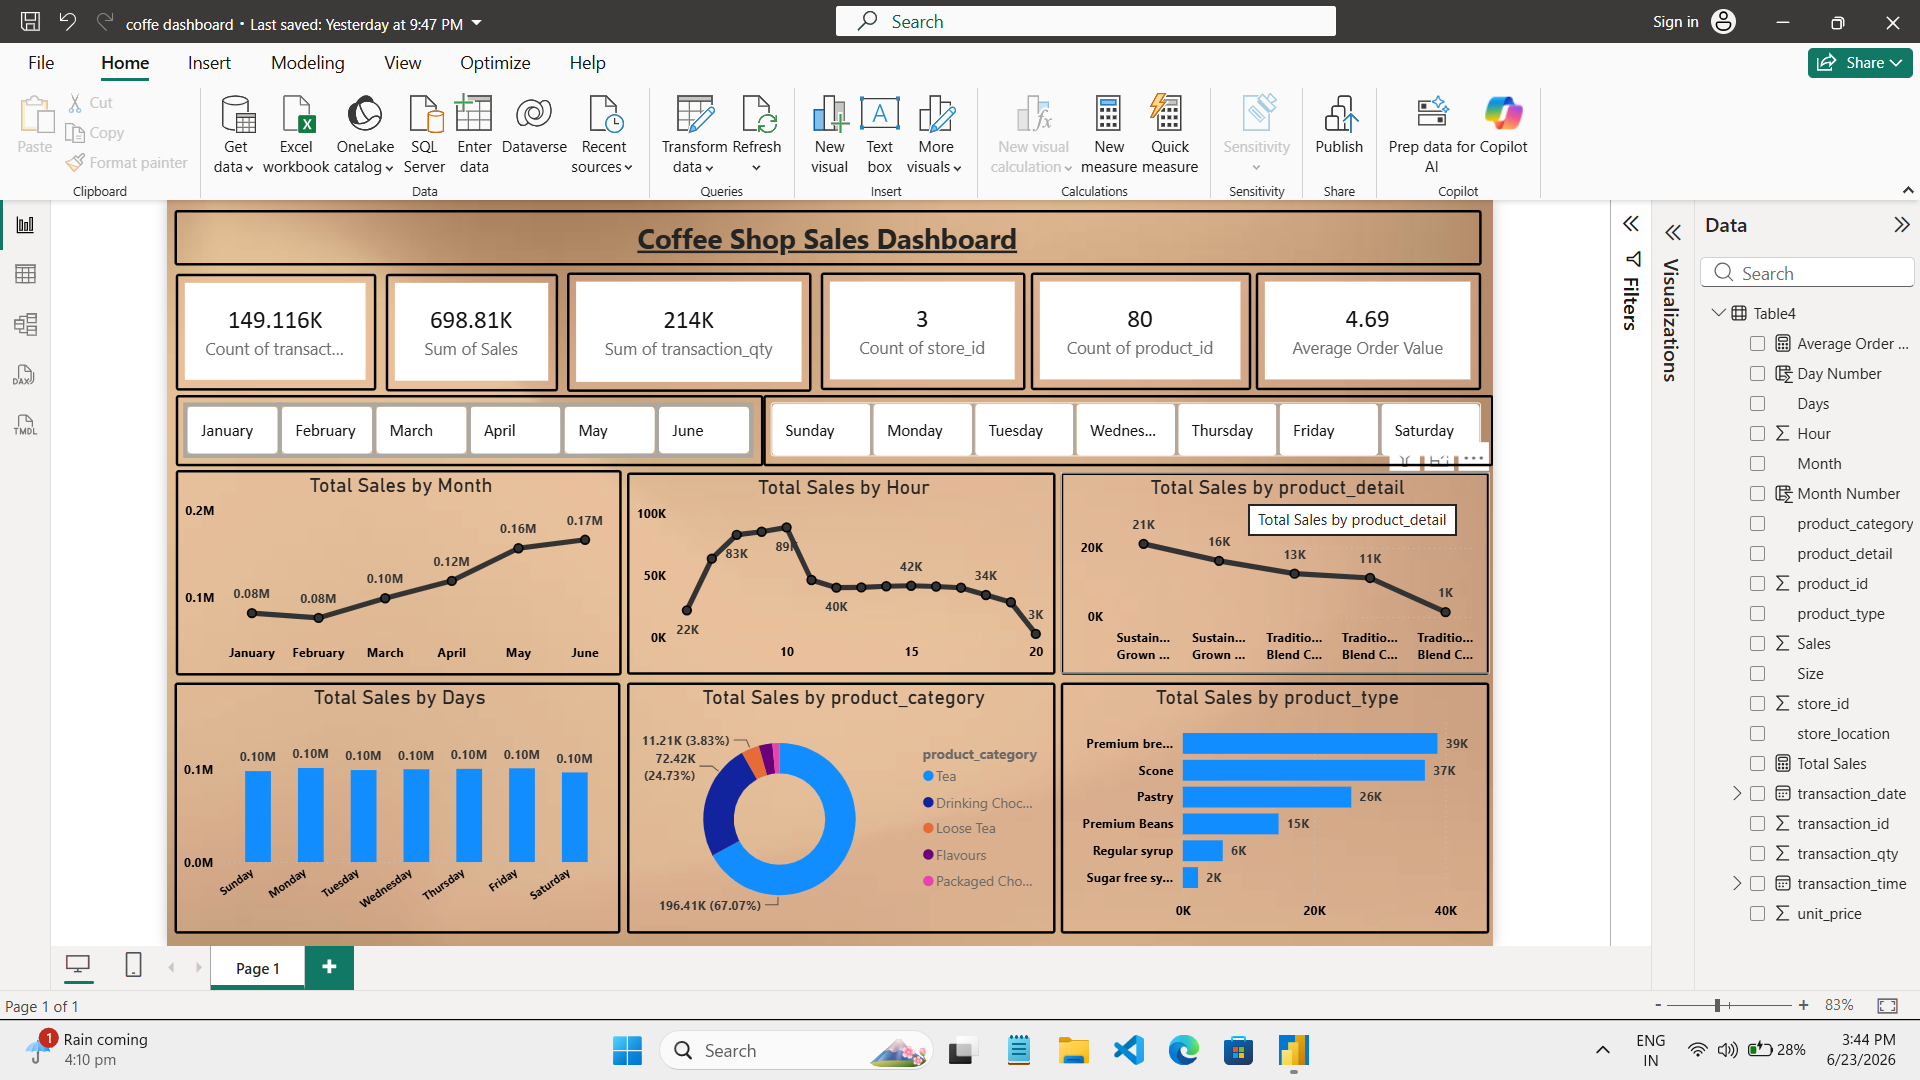

Layout of this report page (visuals, bound fields, positions):
{"tool":"powerbi","page":{"name":"Page 1","canvas":[1280,720],"ordinal":0},"visuals":[{"type":"textbox","box":[7.5,10,1261.2,53.8],"z":0},{"type":"cardVisual","fields":{"Data":["Sum(Table4.Sales)"]},"box":[211.2,71.2,166.2,113.8],"z":1000},{"type":"cardVisual","fields":{"Data":["Sum(Table4.transaction_qty)"]},"box":[386.2,70,236.2,115],"z":2000},{"type":"cardVisual","fields":{"Data":["Count(Table4.store_id)"]},"box":[631.2,70,197.5,113.8],"z":3000},{"type":"cardVisual","fields":{"Data":["Count(Table4.product_id)"]},"box":[833.8,70,212.5,113.8],"z":4000},{"type":"cardVisual","fields":{"Data":["Table4.Average Order Value"]},"box":[1051.2,70,217.5,113.8],"z":5000},{"type":"lineChart","fields":{"Category":["Table4.Month"],"Y":["Table4.Total Sales"]},"box":[8.8,260,430,198.8],"z":6000},{"type":"clusteredColumnChart","fields":{"Y":["Table4.Total Sales"],"Category":["Table4.Days"]},"box":[7.5,466.2,430,242.5],"z":7000},{"type":"lineChart","fields":{"Category":["Table4.Hour"],"Y":["Table4.Total Sales"]},"box":[443.8,262.5,413.8,195],"z":8000},{"type":"donutChart","fields":{"Category":["Table4.product_category"],"Y":["Table4.Total Sales"]},"box":[443.8,466.2,413.8,242.5],"z":9000},{"type":"lineChart","fields":{"Y":["Table4.Total Sales"],"Category":["Table4.product_detail"]},"box":[862.5,262.5,413.8,195],"z":10000},{"type":"barChart","fields":{"Category":["Table4.product_type"],"Y":["Table4.Total Sales"]},"box":[862.5,466.2,413.8,242.5],"z":11000},{"type":"cardVisual","fields":{"Data":["Count(Table4.transaction_id)"]},"box":[8.8,71.2,193.8,112.5],"z":12000},{"type":"advancedSlicerVisual","fields":{"Values":["Table4.Month"]},"box":[8.8,188,567.5,69],"z":13000},{"type":"advancedSlicerVisual","fields":{"Values":["Table4.Days"]},"box":[575.5,188.2,704.6,68.8],"z":14000}]}

Visuals, with their boxes on the page's 1280x720 design canvas (x1, y1, x2, y2). These are canvas units, not pixel positions in the 1920x1080 screenshot, which may show the page scaled, cropped or inside an application window:
textbox: 8, 10, 1269, 64
cardVisual - Sum(Table4.Sales): 211, 71, 377, 185
cardVisual - Sum(Table4.transaction_qty): 386, 70, 622, 185
cardVisual - Count(Table4.store_id): 631, 70, 829, 184
cardVisual - Count(Table4.product_id): 834, 70, 1046, 184
cardVisual - Table4.Average Order Value: 1051, 70, 1269, 184
lineChart - Table4.Month x Table4.Total Sales: 9, 260, 439, 459
clusteredColumnChart - Table4.Total Sales x Table4.Days: 8, 466, 438, 709
lineChart - Table4.Hour x Table4.Total Sales: 444, 262, 858, 458
donutChart - Table4.product_category x Table4.Total Sales: 444, 466, 858, 709
lineChart - Table4.Total Sales x Table4.product_detail: 862, 262, 1276, 458
barChart - Table4.product_type x Table4.Total Sales: 862, 466, 1276, 709
cardVisual - Count(Table4.transaction_id): 9, 71, 203, 184
advancedSlicerVisual - Table4.Month: 9, 188, 576, 257
advancedSlicerVisual - Table4.Days: 576, 188, 1280, 257
